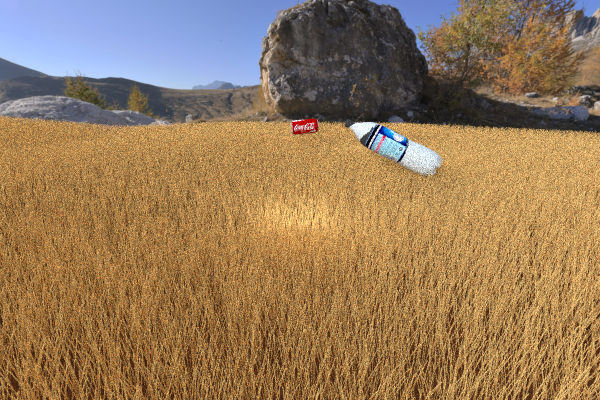bottle: (344, 119, 442, 176)
can: (455, 134, 541, 172), (290, 118, 318, 135)
